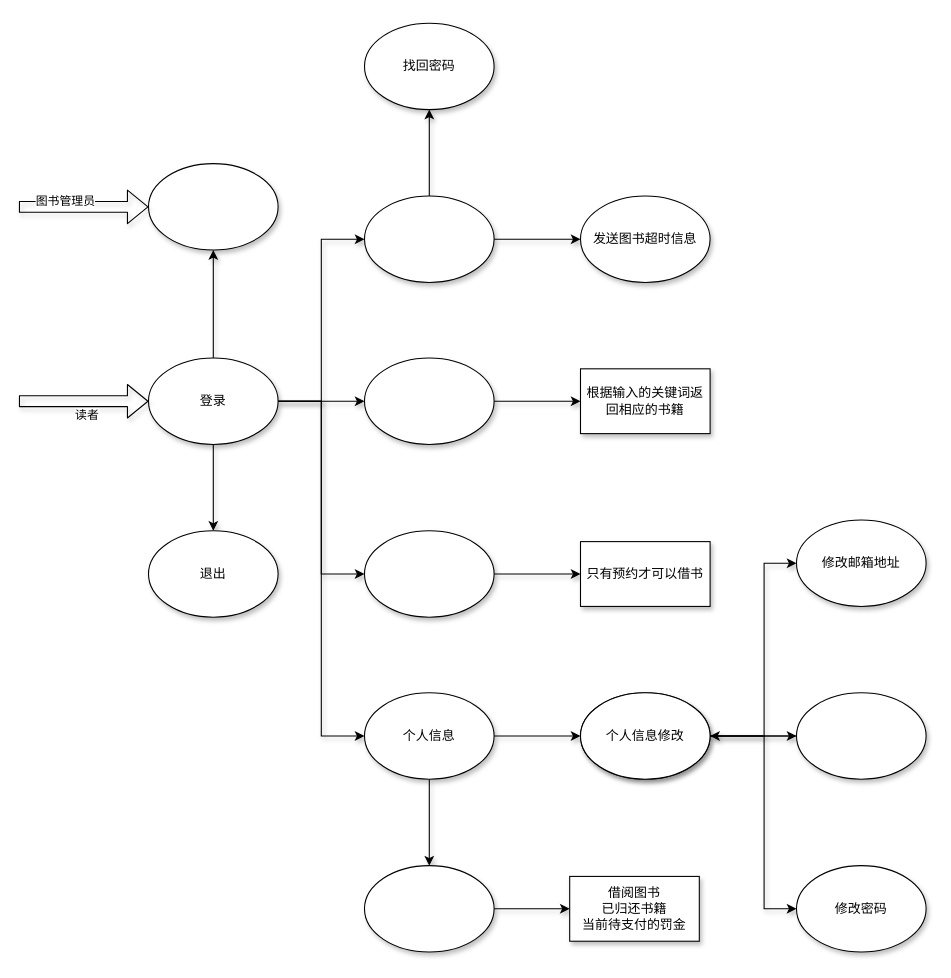
The diagram is 951 pixels wide and 978 high, and some of its shapes have lost their labels. The shapes that lost their labels are listed below. From the top down, each one's centre as x and y in pixels, then its label:
At point 214,208: "注册".
At point 430,240: "邮箱服务".
At point 430,402: "搜索图书".
At point 430,575: "图书预约".
At point 862,737: "修改用户名".
At point 430,910: "个人信息查询".
